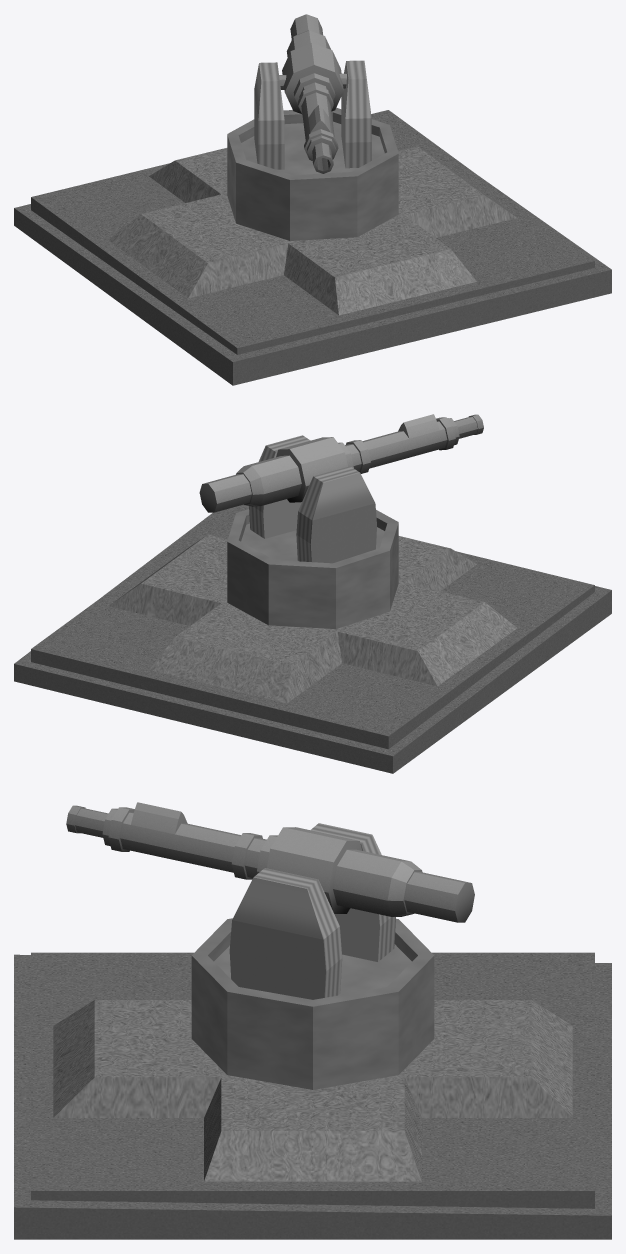
The model's file is Turret.fbx.
The picture shows the model from 3 angles, top to bottom: view 1: azimuth 30°, elevation 25°; view 2: azimuth 150°, elevation 25°; view 3: azimuth 270°, elevation 25°; orthographic projection. The views are drawn at different scales.
Parts seen in each view (by area): view 1: Cube.006, Cube.011; view 2: Cube.006, Cube.011; view 3: Cube.006, Cube.011.
Boxes of the visible parts, x1=… form: Cube.006: x1=14, y1=107, x2=611, y2=385; Cube.011: x1=254, y1=14, x2=371, y2=173; Cube.006: x1=14, y1=504, x2=611, y2=773; Cube.011: x1=199, y1=414, x2=483, y2=563; Cube.006: x1=14, y1=918, x2=611, y2=1239; Cube.011: x1=66, y1=802, x2=474, y2=999.
Size of the model in its own units: 530 by 274 by 530.
